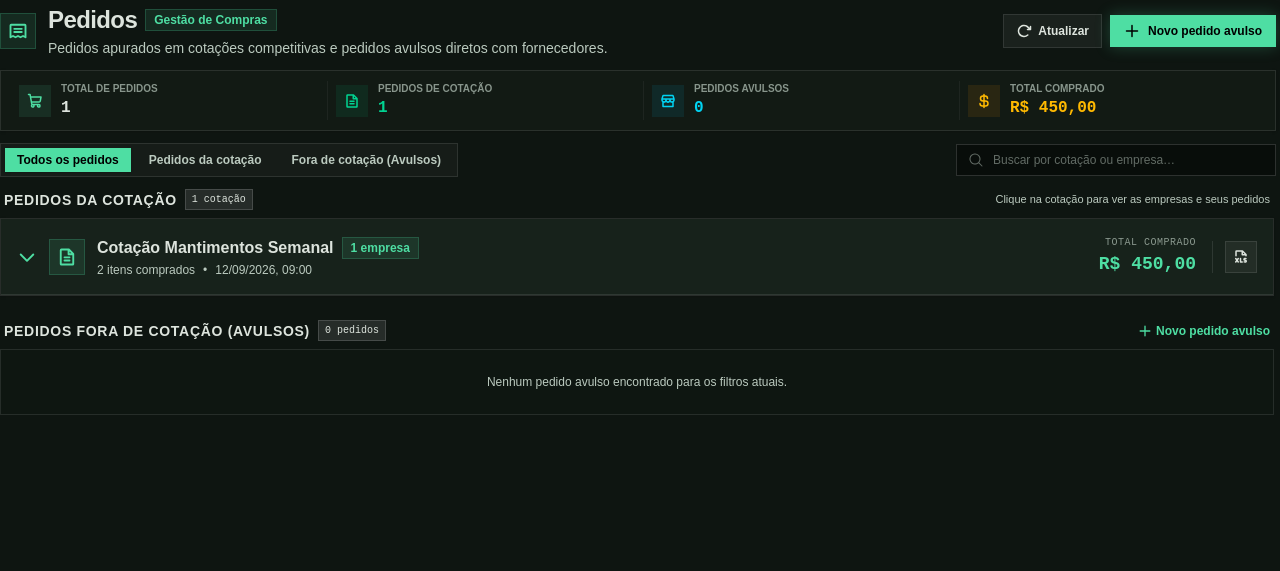
expande accordion de cotação (nível 1) e empresa (nível 2) exibindo itens da planilha (nível 3)
# Nível 1: Clica na faixa da cotação
Click the heading "Cotação Mantimentos Semanal". click: {"x": 215, "y": 248}
box: [97,236,334,260]
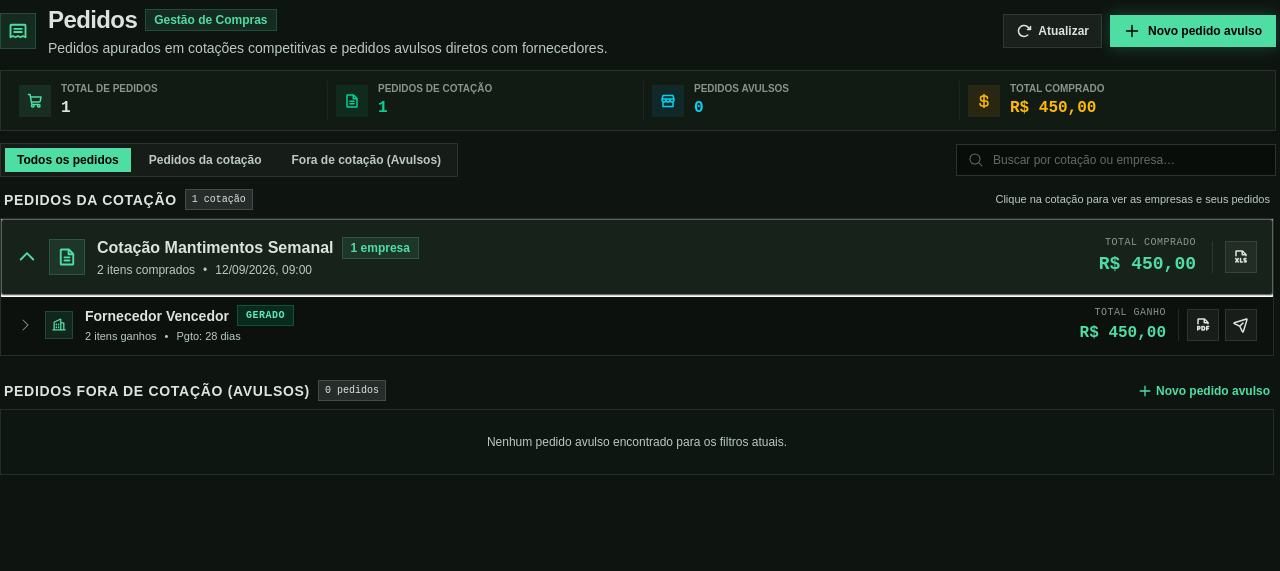
Check: the text "Fornecedor Vencedor" is shown
# Nível 3: Clica na faixa da empresa para expandir a planilha com os itens
Click the text "Fornecedor Vencedor". click: {"x": 157, "y": 316}
box: [85,306,229,326]
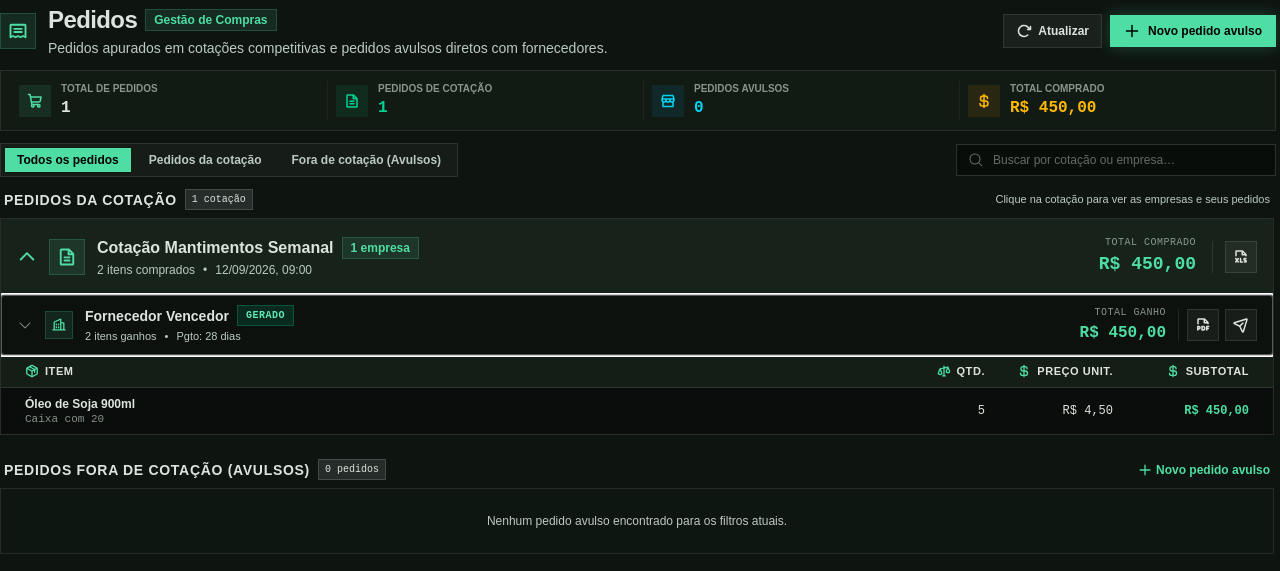
Check: the text "Óleo de Soja 900ml" is shown, box [25,397,135,411]
Check: the text "Caixa com 20" is shown, box [25,413,104,425]
